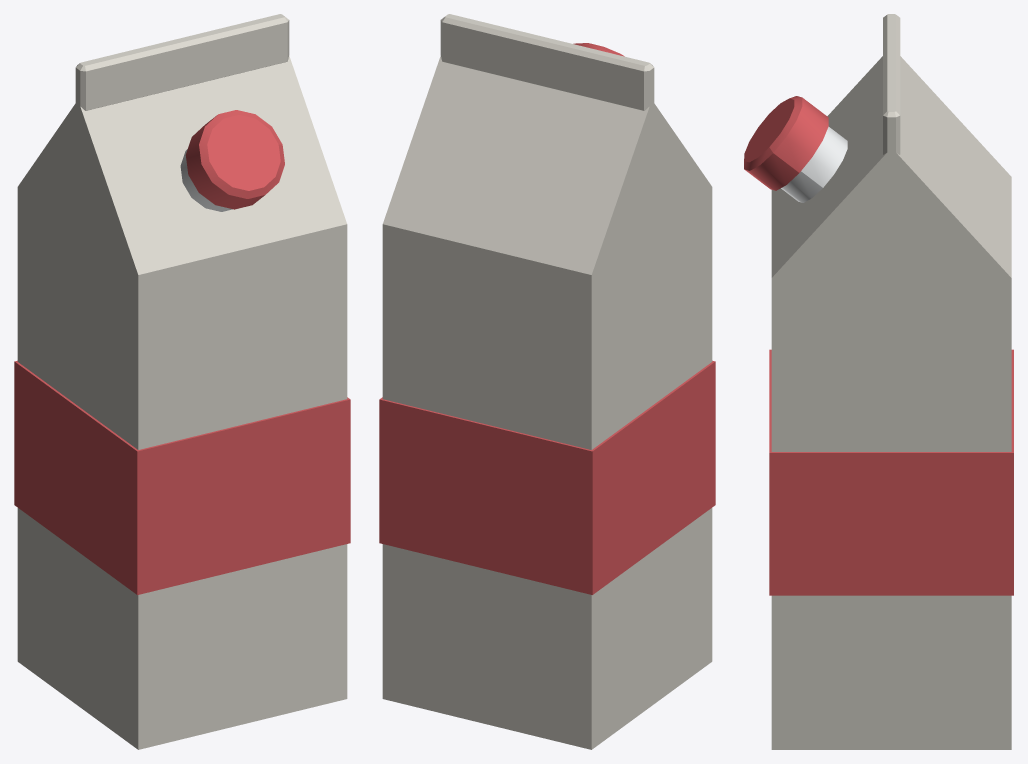
File: fresh-produce-and-groceries-milk-carton-e21398d3__24391.glb
The picture shows the model from 3 angles, left to right: view 1: azimuth 30°, elevation 25°; view 2: azimuth 150°, elevation 25°; view 3: azimuth 270°, elevation 25°; orthographic projection.
Parts seen in each view (by area): view 1: milk-carton; view 2: milk-carton; view 3: milk-carton.
Part boxes in pixels (x1=…): milk-carton: x1=14, y1=14, x2=350, y2=749; milk-carton: x1=379, y1=14, x2=715, y2=749; milk-carton: x1=744, y1=14, x2=1013, y2=749.
Size of the model in its own units: 0.0714 by 0.205 by 0.0788.
